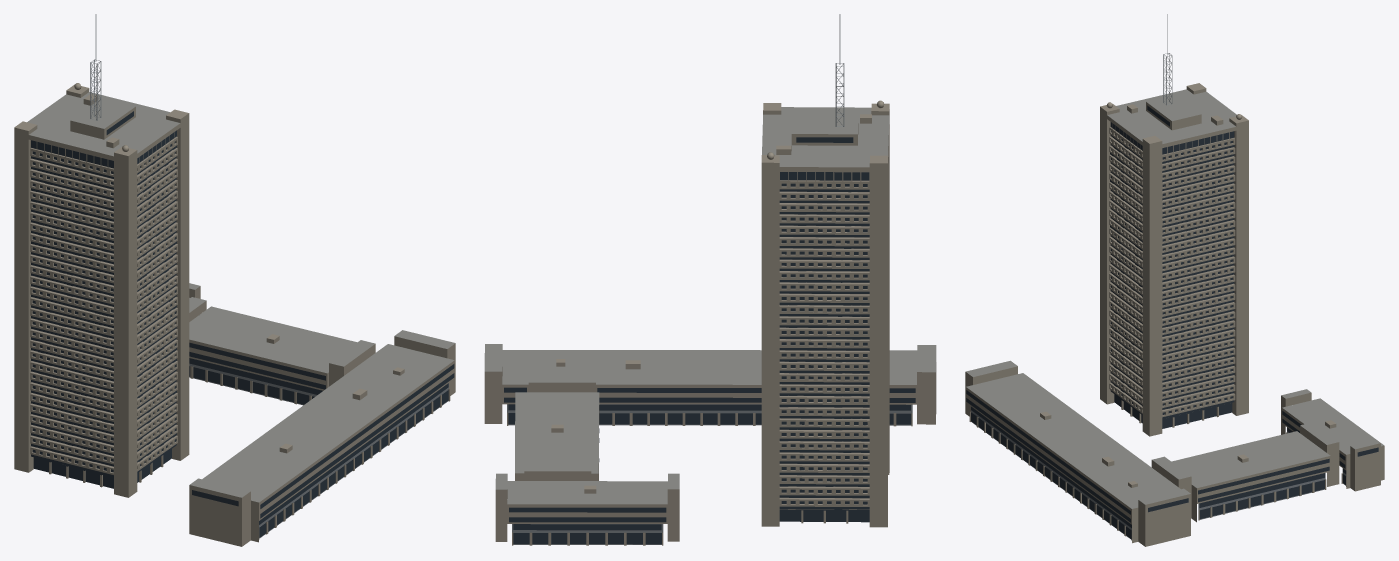
The model's file is edifice-marie-guyart-near.glb.
The picture shows the model from 3 angles, left to right: view 1: azimuth 30°, elevation 25°; view 2: azimuth 150°, elevation 25°; view 3: azimuth 270°, elevation 25°; orthographic projection. The views are drawn at different scales.
Parts seen in each view (by area): view 1: edifice-marie-guyart-0-concrete, edifice-marie-guyart-0-roof, edifice-marie-guyart-0-glass, edifice-marie-guyart-0-glow, edifice-marie-guyart-0-metal; view 2: edifice-marie-guyart-0-concrete, edifice-marie-guyart-0-roof, edifice-marie-guyart-0-glass, edifice-marie-guyart-0-glow, edifice-marie-guyart-0-metal; view 3: edifice-marie-guyart-0-concrete, edifice-marie-guyart-0-roof, edifice-marie-guyart-0-glass, edifice-marie-guyart-0-glow, edifice-marie-guyart-0-metal.
Part boxes in pixels (bbox=[...]): edifice-marie-guyart-0-concrete: bbox=[14, 83, 455, 546]; edifice-marie-guyart-0-roof: bbox=[27, 92, 455, 502]; edifice-marie-guyart-0-glass: bbox=[31, 111, 454, 536]; edifice-marie-guyart-0-glow: bbox=[31, 130, 454, 537]; edifice-marie-guyart-0-metal: bbox=[90, 14, 448, 538]; edifice-marie-guyart-0-concrete: bbox=[484, 100, 936, 545]; edifice-marie-guyart-0-roof: bbox=[484, 107, 936, 504]; edifice-marie-guyart-0-glass: bbox=[504, 137, 915, 544]; edifice-marie-guyart-0-glow: bbox=[516, 172, 914, 543]; edifice-marie-guyart-0-metal: bbox=[507, 14, 912, 544]; edifice-marie-guyart-0-concrete: bbox=[965, 83, 1384, 546]; edifice-marie-guyart-0-roof: bbox=[966, 89, 1383, 508]; edifice-marie-guyart-0-glass: bbox=[966, 105, 1378, 538]; edifice-marie-guyart-0-glow: bbox=[971, 129, 1344, 533]; edifice-marie-guyart-0-metal: bbox=[971, 14, 1346, 539].
Size of the model in its own units: 168 by 177 by 173.
